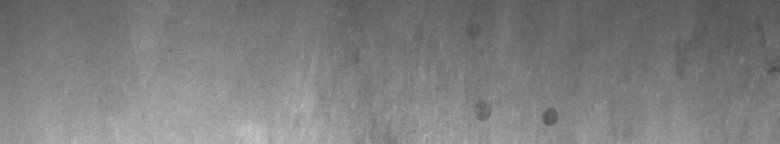fi: (475, 102, 560, 132)
